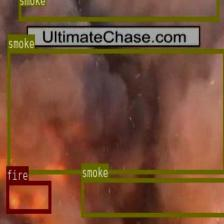fire: (6, 180, 51, 212)
smoke: (7, 49, 224, 173), (81, 178, 224, 216), (18, 0, 218, 20)
